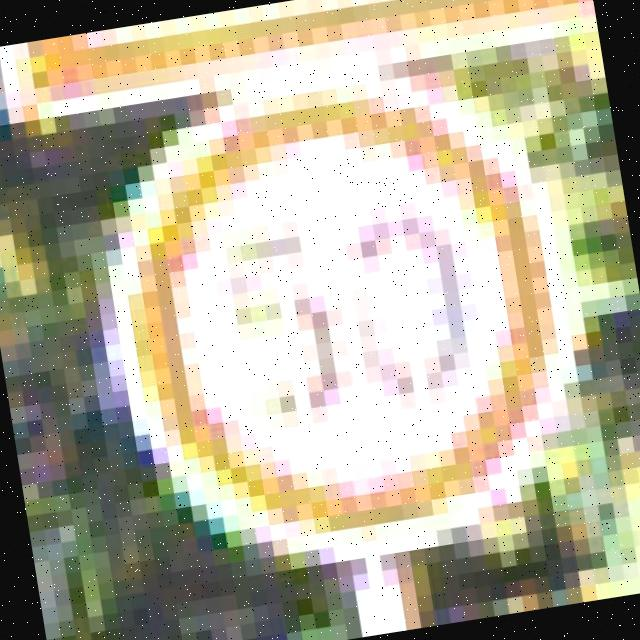Ograniczenie predkosci do 50: (96, 67, 583, 570)
